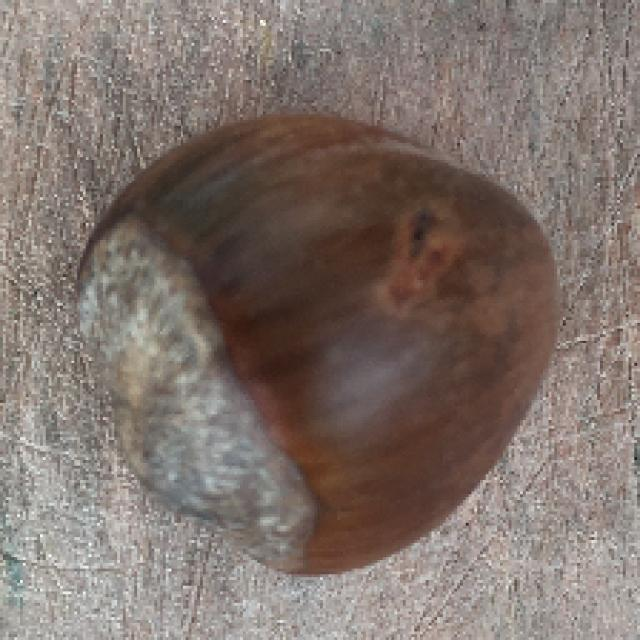DamagedHazelnut: (80, 118, 562, 575)
